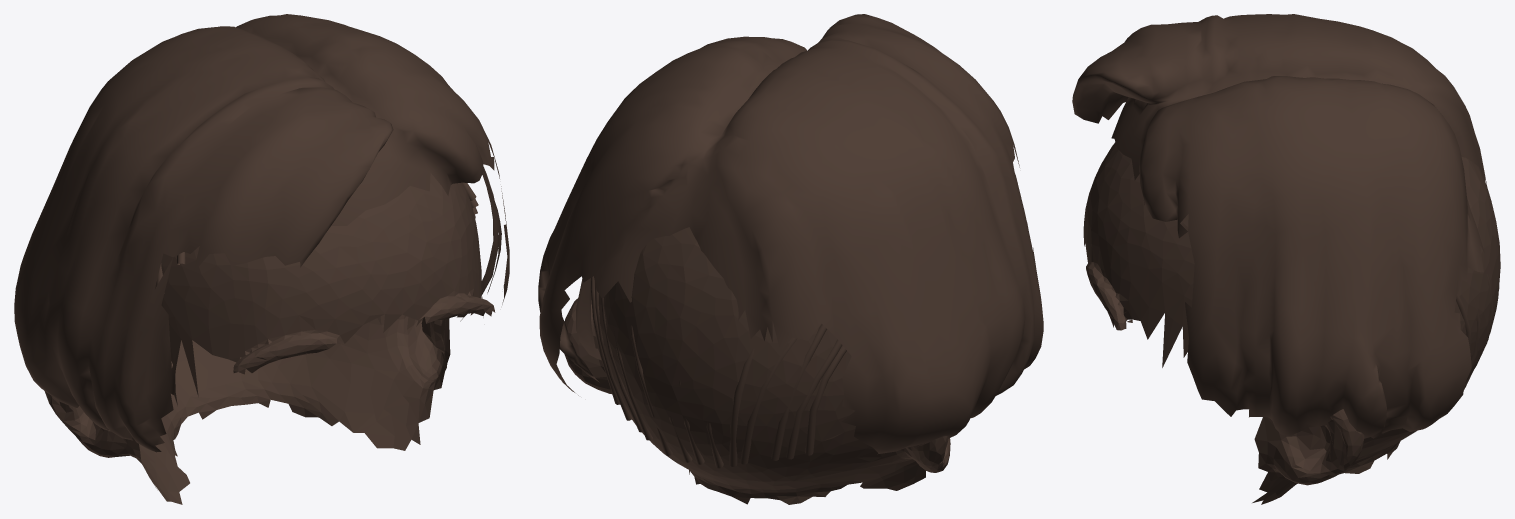
The model's file is bob.glb.
3 renders of one model, left to right at view 1: azimuth 30°, elevation 25°; view 2: azimuth 150°, elevation 25°; view 3: azimuth 270°, elevation 25°, orthographic. The views are drawn at different scales.
Visible parts, largest first — view 1: Hair, HairScalp; view 2: Hair, HairScalp, HairPulledRootStrands; view 3: Hair, HairScalp, HairPulledRootStrands.
Part boxes in pixels (left/top/right/bottom): Hair: left=14, top=14, right=509, bottom=452; HairScalp: left=44, top=173, right=495, bottom=504; Hair: left=538, top=14, right=1043, bottom=454; HairScalp: left=564, top=227, right=950, bottom=504; HairPulledRootStrands: left=590, top=276, right=846, bottom=468; Hair: left=1072, top=14, right=1486, bottom=438; HairScalp: left=1083, top=142, right=1500, bottom=504; HairPulledRootStrands: left=1456, top=274, right=1499, bottom=390.
Size of the model in its own units: 0.5284 by 0.482 by 0.4543.
